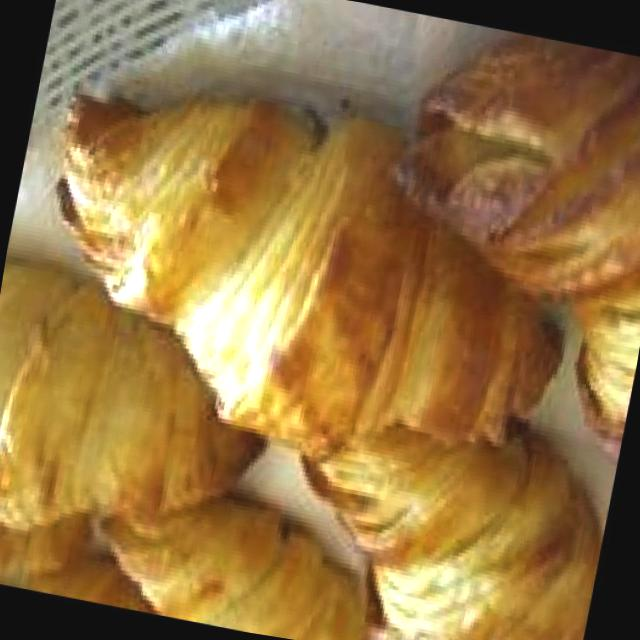Croissant: (0, 53, 599, 507)
